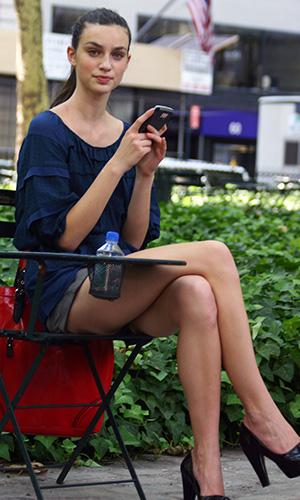person: (14, 7, 300, 500)
